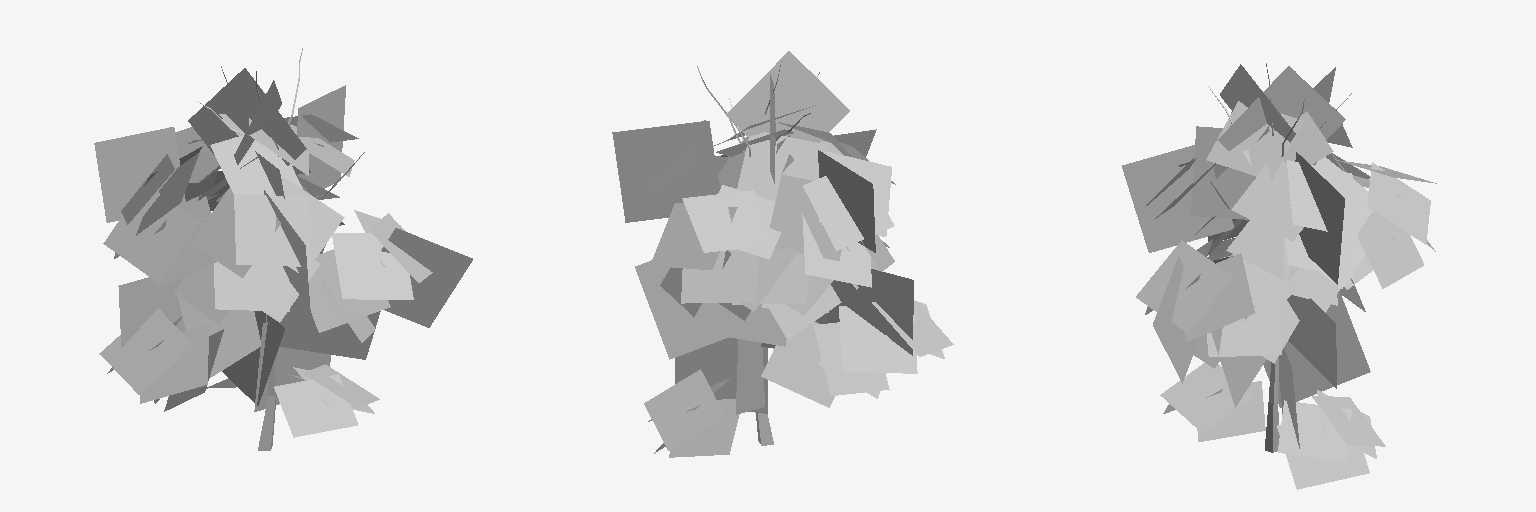
File: tree3a_lod2.obj
3 renders of one model, left to right at view 1: azimuth 30°, elevation 25°; view 2: azimuth 150°, elevation 25°; view 3: azimuth 270°, elevation 25°, orthographic.
Visible parts, largest first — view 1: leaves 0.0 0.[number redacted] 0.0 0 0 0 0.[number redacted] 0.[number redacted], bark -0.[number redacted] -0.[number redacted] -0.[number redacted]; view 2: leaves 0.0 0.[number redacted] 0.0 0 0 0 0.[number redacted] 0.[number redacted], bark -0.[number redacted] -0.[number redacted] -0.[number redacted]; view 3: leaves 0.0 0.[number redacted] 0.0 0 0 0 0.[number redacted] 0.[number redacted], bark -0.[number redacted] -0.[number redacted] -0.[number redacted].
Boxes of the visible parts, x1,y1,x2,y2 form: leaves 0.0 0.[number redacted] 0.0 0 0 0 0.[number redacted] 0.[number redacted]: [94, 68, 472, 437]; bark -0.[number redacted] -0.[number redacted] -0.[number redacted]: [197, 48, 364, 450]; leaves 0.0 0.[number redacted] 0.0 0 0 0 0.[number redacted] 0.[number redacted]: [612, 51, 953, 457]; bark -0.[number redacted] -0.[number redacted] -0.[number redacted]: [697, 61, 819, 445]; leaves 0.0 0.[number redacted] 0.0 0 0 0 0.[number redacted] 0.[number redacted]: [1122, 64, 1436, 489]; bark -0.[number redacted] -0.[number redacted] -0.[number redacted]: [1208, 63, 1351, 452].
Bounding box in the file's own units: 0.8422 × 1 × 0.7507.